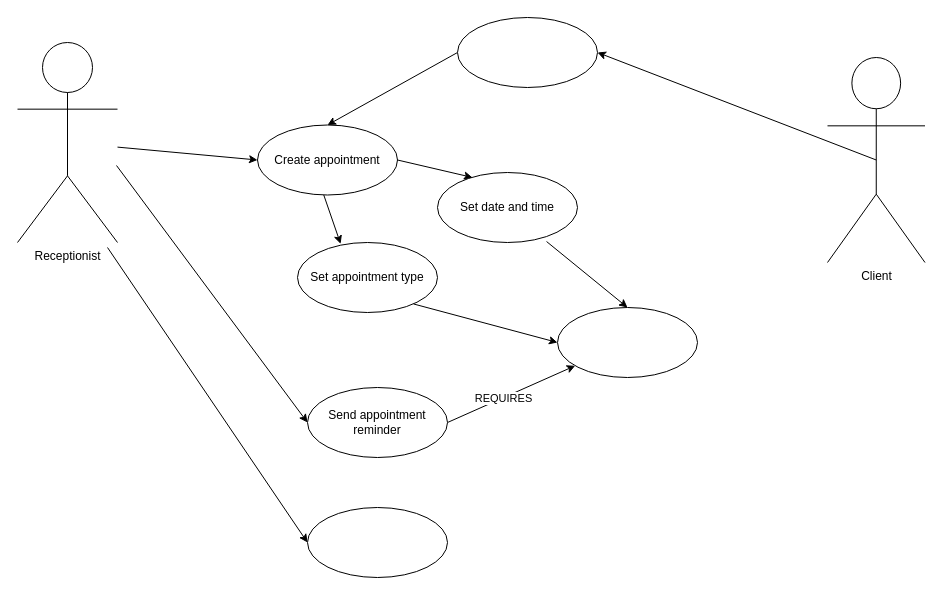
Image size: 943x595. Some labels were removed from this diagram. The centre of each missing label's shape, as x and y in pixels:
Modify appointment: the point at 377,542
Request appointment: the point at 527,52
Save appointment data: the point at 627,342
